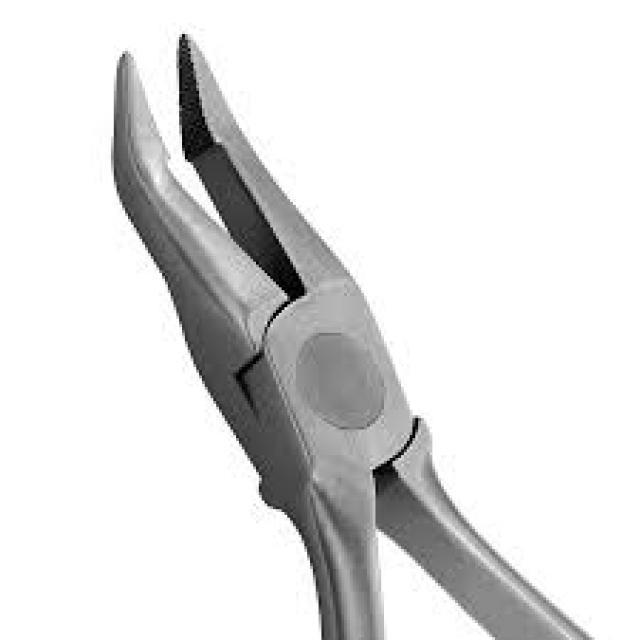pliers: (94, 19, 523, 640)
